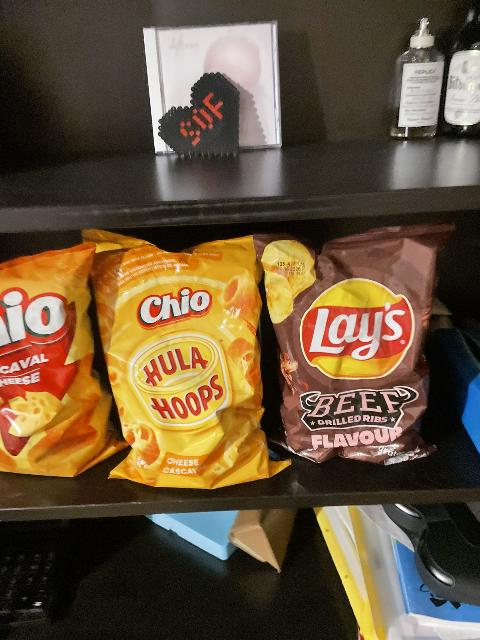Chio Cascaval 125g: (1, 241, 124, 470)
Chio Hula Hoops Cheese 70g: (93, 237, 284, 489)
Lays Beef Grilled Ribs 125g: (256, 225, 453, 463)
